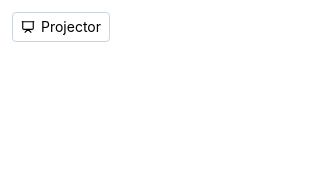
it: projector mode › the toggle is a pressed button that sets the <html> class and remembers the choice
The image size is (332, 172).
Later steps or results of the test are not shown.
Click the button "Projector" at (61, 27), box left=12, top=12, right=110, bottom=42
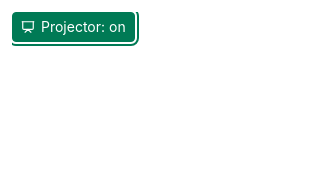
Expected: the button "Projector: on" is pressed, left=12, top=12, right=135, bottom=42
